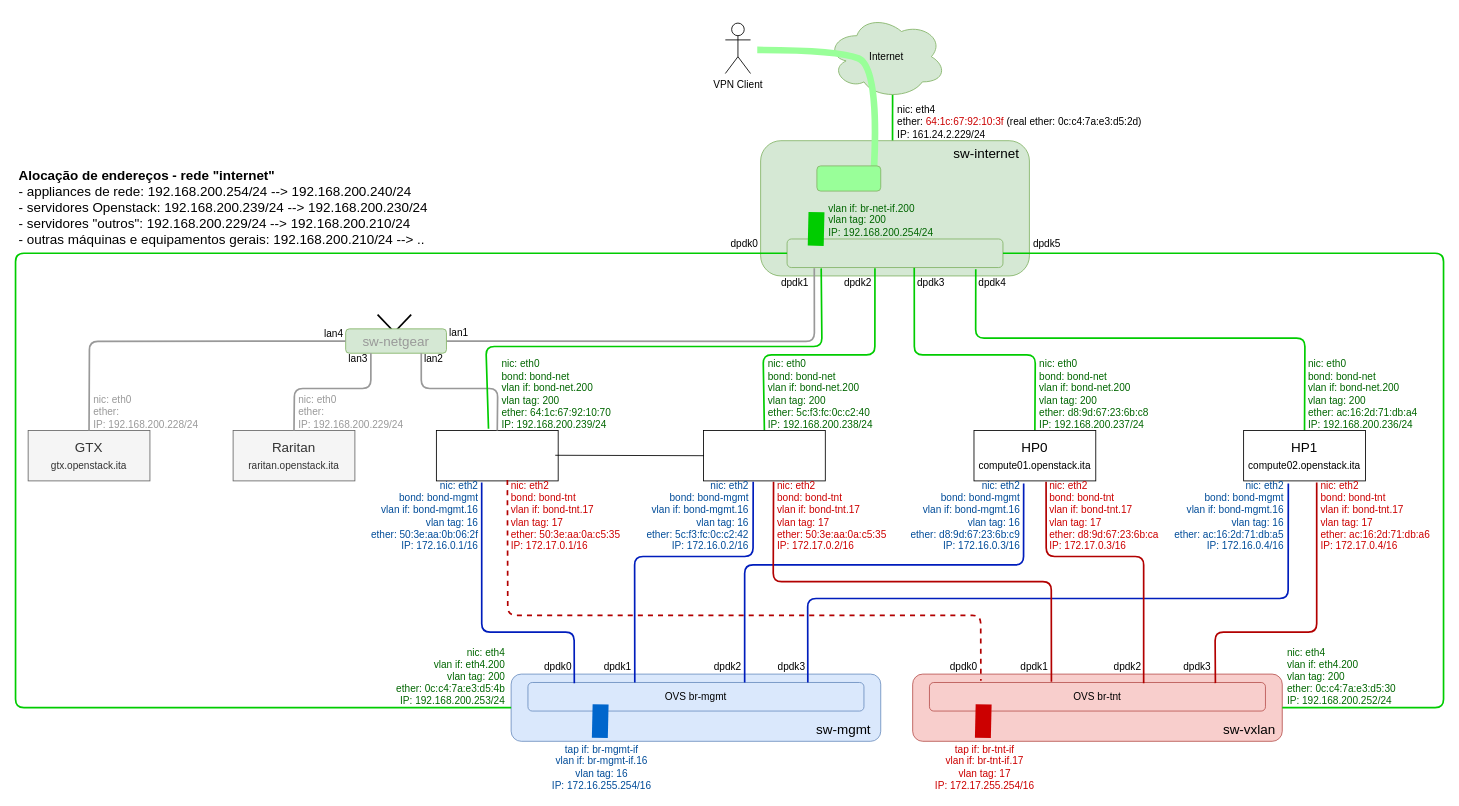
Image size: 1459x806. Some labels were removed from this diagram. Here are the shapes that lost their labels. From the top down, the centre of each, then its label:
At (848,178): "vpn-server".
At (894,253): "OVS br-net".
At (497,455): "PC infra0.openstack.ita".
At (764,455): "IBM compute00.openstack.ita".
